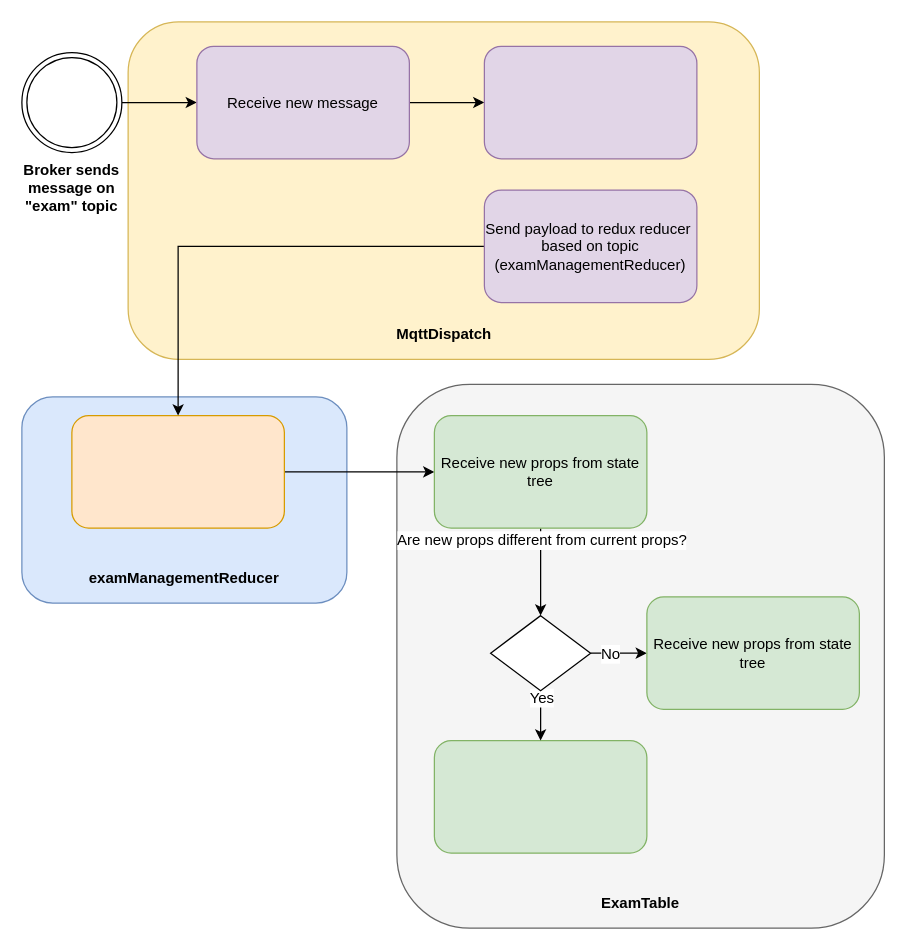
The diagram is 906 pixels wide and 950 high, and some of its shapes have lost their labels. Each missing label, with the centre of its shape:
"Re-render component with new props" goes at pixel 540 796.
"Retrieve topic value within the message" goes at pixel 590 102.
"Update redux state tree with received JSON message" goes at pixel 177 471.
